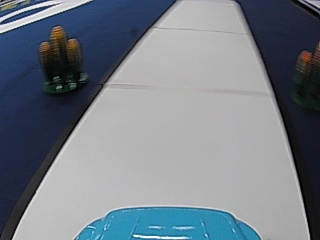corn: (38, 22, 86, 97)
